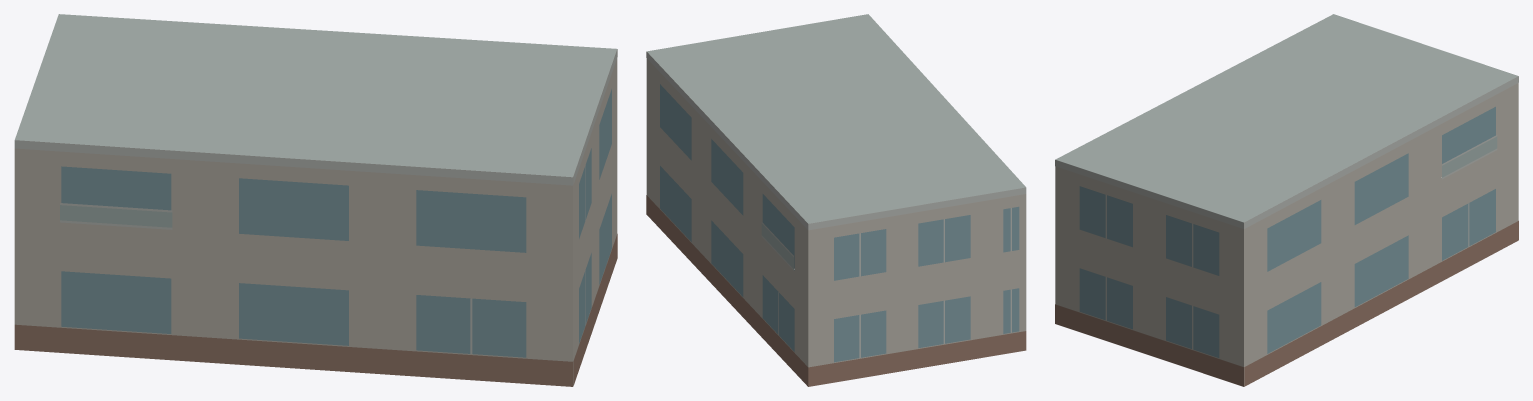
The model's file is survey-upis-32810830.glb.
3 renders of one model, left to right at view 1: azimuth 30°, elevation 25°; view 2: azimuth 150°, elevation 25°; view 3: azimuth 270°, elevation 25°, orthographic. The views are drawn at different scales.
Visible parts, largest first — view 1: survey-upis-32810830.tmp; view 2: survey-upis-32810830.tmp; view 3: survey-upis-32810830.tmp.
Part boxes in pixels (x1,y1,x2,y2): survey-upis-32810830.tmp: [14, 14, 617, 386]; survey-upis-32810830.tmp: [646, 14, 1026, 386]; survey-upis-32810830.tmp: [1055, 14, 1518, 386].
Size of the model in its own units: 16.62 by 6.1 by 15.61.
